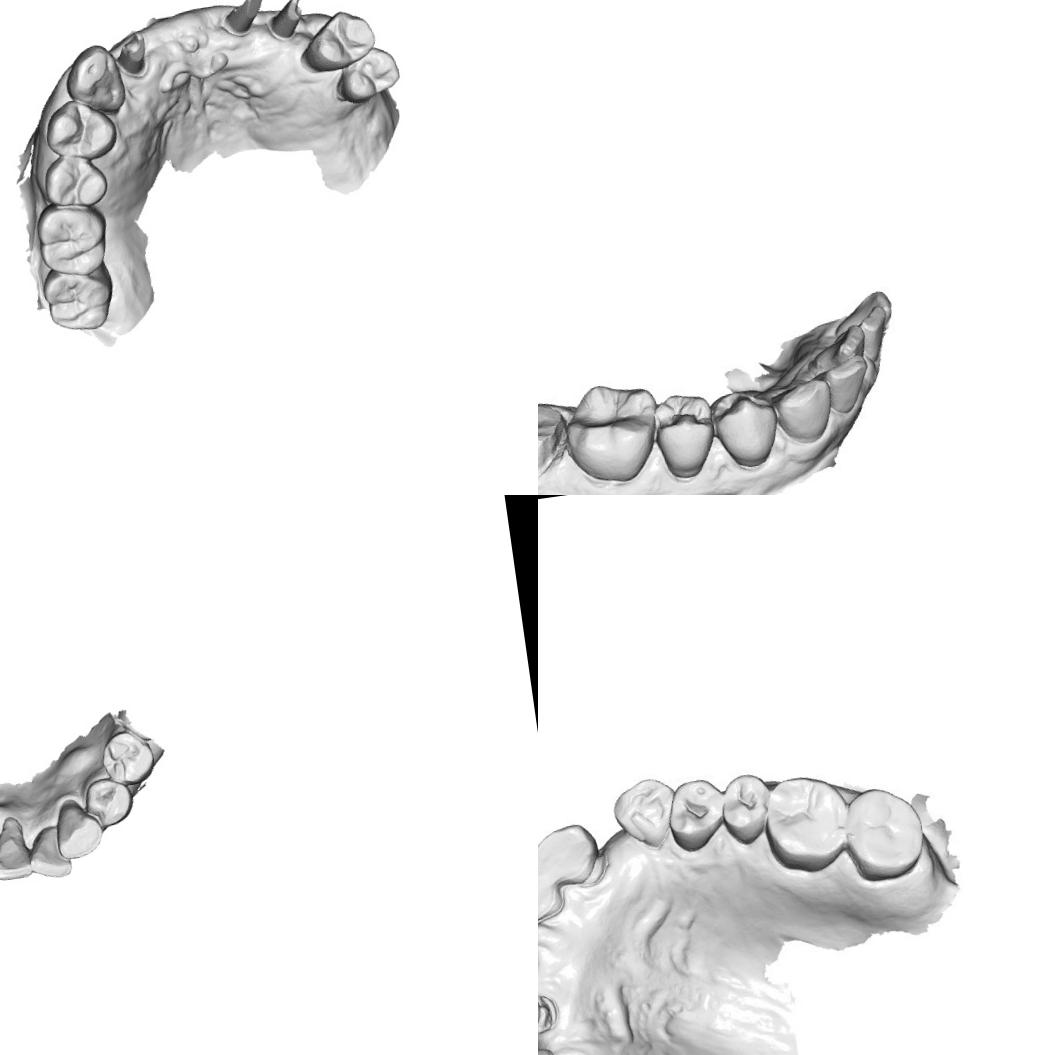abutment: (259, 0, 311, 46), (113, 26, 155, 82), (215, 0, 272, 40)
canine: (59, 38, 132, 122), (607, 773, 682, 853), (772, 367, 836, 445), (50, 796, 106, 863)
crown: (538, 386, 574, 489)
incisor: (538, 819, 604, 892), (825, 352, 879, 418), (24, 820, 74, 882), (850, 301, 894, 364), (538, 855, 568, 930), (830, 321, 872, 372), (0, 824, 34, 883)
molar: (562, 376, 664, 487), (756, 768, 854, 878), (839, 780, 931, 886), (33, 199, 113, 279), (37, 262, 121, 336)
premolar: (295, 5, 380, 76), (661, 773, 732, 856), (653, 392, 719, 480), (714, 385, 781, 470), (40, 94, 121, 164), (330, 40, 404, 108), (716, 770, 774, 848), (40, 149, 112, 211), (98, 726, 158, 790), (81, 773, 136, 830)
